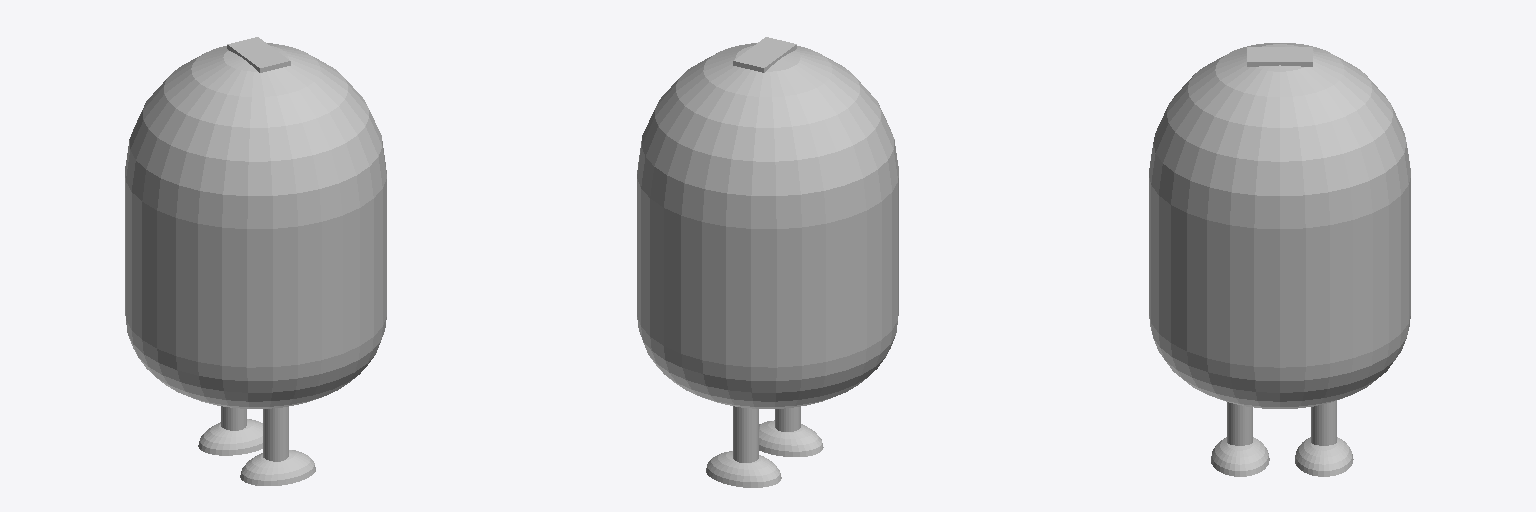
Rendered from roughBOSS.obj.
3 renders of one model, left to right at view 1: azimuth 30°, elevation 25°; view 2: azimuth 150°, elevation 25°; view 3: azimuth 270°, elevation 25°, orthographic.
Visible parts, largest first — view 1: Cylinder.005_Cylinder.007, Cylinder, Cylinder.003_Cylinder.006, Cylinder.004, Cylinder.001, Cube, Cylinder.002; view 2: Cylinder.005_Cylinder.007, Cylinder, Cylinder.004, Cylinder.003_Cylinder.006, Cylinder.002, Cube, Cylinder.001; view 3: Cylinder.005_Cylinder.007, Cylinder, Cylinder.003_Cylinder.006, Cylinder.004, Cube, Cylinder.002, Cylinder.001.
Boxes of the visible parts, x1=… form: Cylinder.005_Cylinder.007: x1=125, y1=140, x2=386, y2=367; Cylinder: x1=126, y1=43, x2=386, y2=408; Cylinder.003_Cylinder.006: x1=240, y1=450, x2=315, y2=485; Cylinder.004: x1=198, y1=419, x2=262, y2=455; Cylinder.001: x1=263, y1=407, x2=288, y2=461; Cube: x1=227, y1=37, x2=290, y2=72; Cylinder.002: x1=221, y1=406, x2=246, y2=430; Cylinder.005_Cylinder.007: x1=637, y1=140, x2=898, y2=367; Cylinder: x1=637, y1=43, x2=897, y2=408; Cylinder.004: x1=706, y1=451, x2=781, y2=487; Cylinder.003_Cylinder.006: x1=759, y1=420, x2=823, y2=456; Cylinder.002: x1=733, y1=406, x2=758, y2=462; Cube: x1=733, y1=37, x2=796, y2=72; Cylinder.001: x1=775, y1=407, x2=800, y2=431; Cylinder.005_Cylinder.007: x1=1149, y1=144, x2=1410, y2=367; Cylinder: x1=1149, y1=43, x2=1410, y2=408; Cylinder.003_Cylinder.006: x1=1211, y1=437, x2=1269, y2=476; Cylinder.004: x1=1295, y1=437, x2=1353, y2=476; Cube: x1=1247, y1=47, x2=1312, y2=66; Cylinder.002: x1=1311, y1=401, x2=1336, y2=445; Cylinder.001: x1=1227, y1=402, x2=1252, y2=445.
Size of the model in its own units: 2.44 by 4.16 by 2.44.